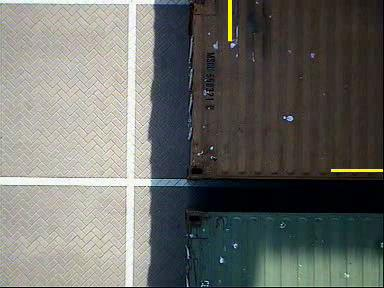groundmarker_2: (101, 176, 159, 213)
